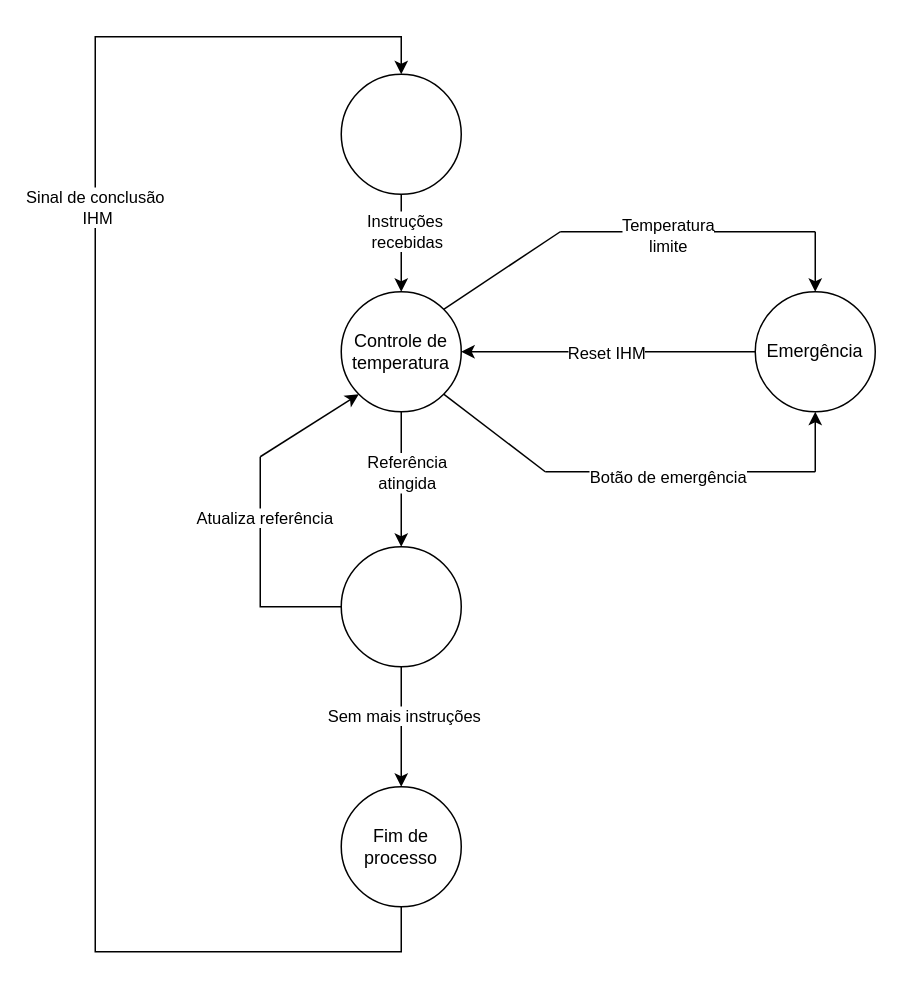
The diagram is 902 pixels wide and 990 high, and some of its shapes have lost their labels. Each missing label, with the centre of its shape:
Aguardando instruções: (x=400, y=133)
Avaliando instruções: (x=400, y=606)
